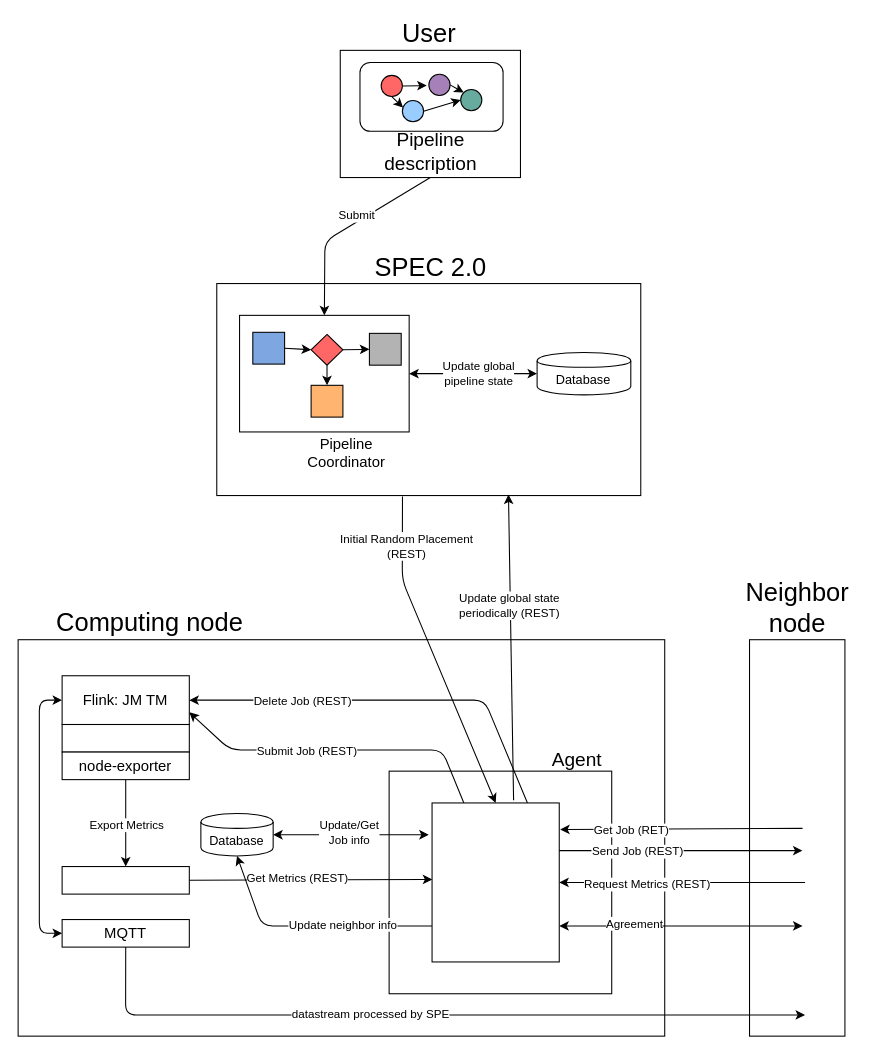
The diagram is 885 pixels wide and 1055 high, and some of its shapes have lost their labels. The shapes that lost their labels are listed below. From the top down, each one's centre as x and y in pixels, then its label:
(125,737): cAdvisor
(125,879): Prometheus
(495,882): Control Logic, Algorithm, Neighbor discovery, handshake
